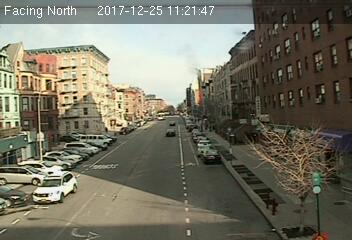car: (32, 170, 77, 205), (201, 149, 222, 163), (165, 128, 176, 137)
